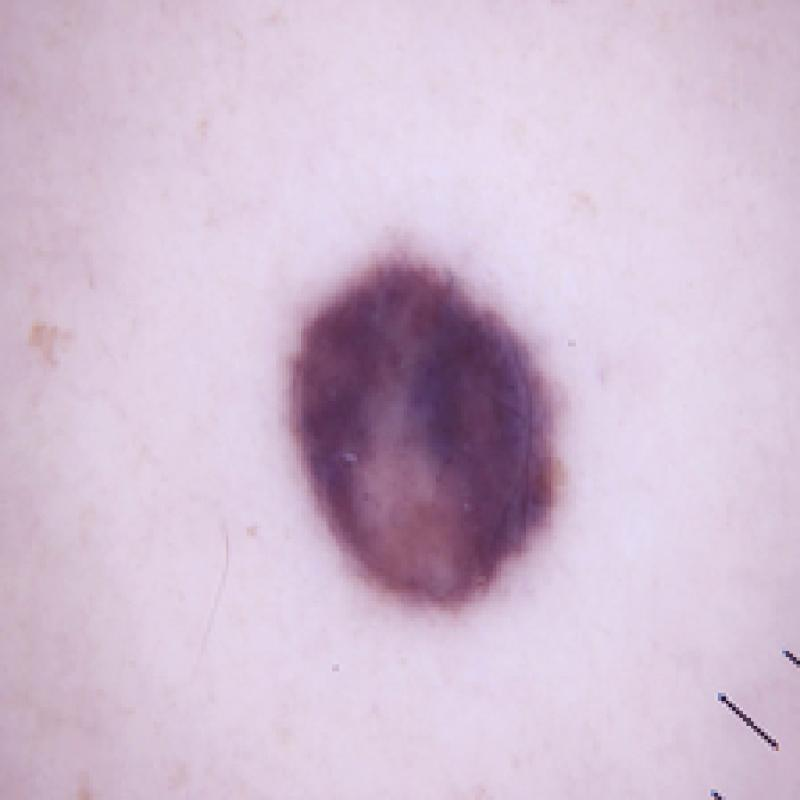benign: (281, 212, 590, 628)
